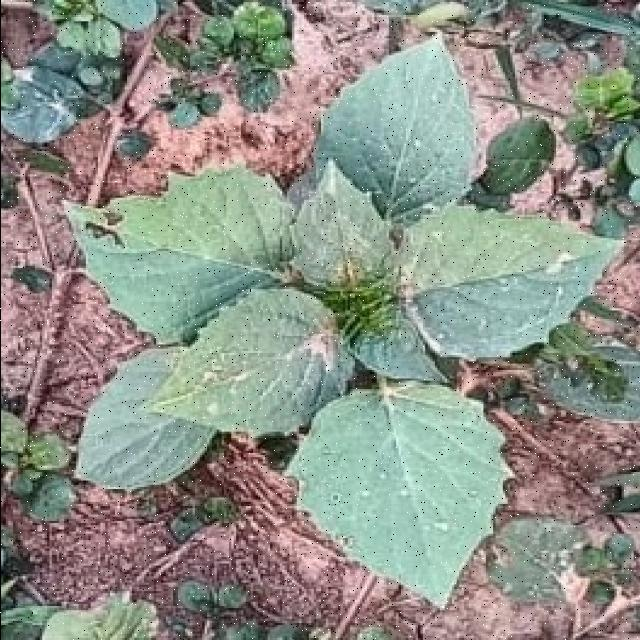weed: (64, 39, 621, 606)
